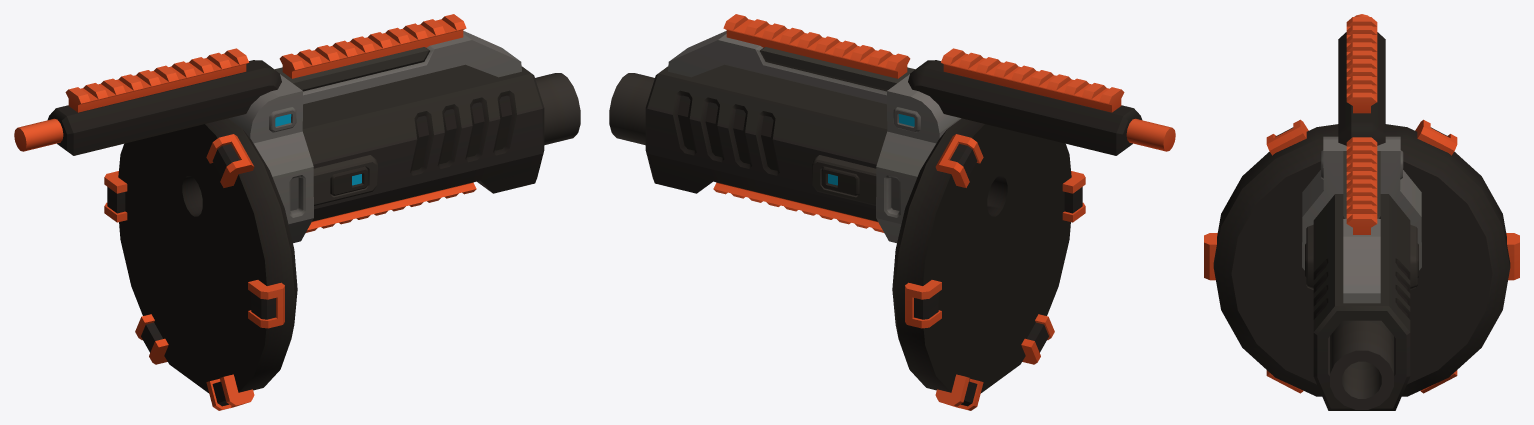
Rendered from GL2_Barrel.fbx.
3 renders of one model, left to right at view 1: azimuth 30°, elevation 25°; view 2: azimuth 150°, elevation 25°; view 3: azimuth 270°, elevation 25°, orthographic. The views are drawn at different scales.
Visible parts, largest first — view 1: GL2_Barrel; view 2: GL2_Barrel; view 3: GL2_Barrel.
Part boxes in pixels (bbox=[...]): GL2_Barrel: bbox=[14, 14, 580, 410]; GL2_Barrel: bbox=[609, 14, 1175, 410]; GL2_Barrel: bbox=[1204, 14, 1519, 410].
Bounding box in the file's own units: 52.71 × 29.89 × 27.14.
